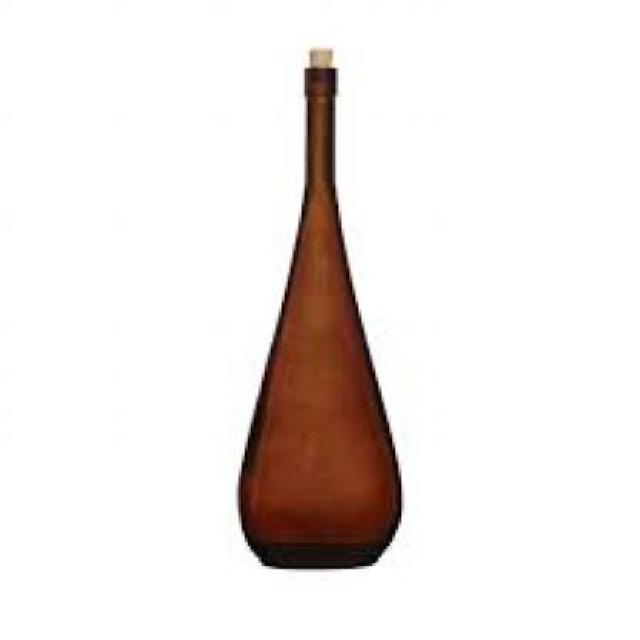kaca: (235, 65, 398, 566)
